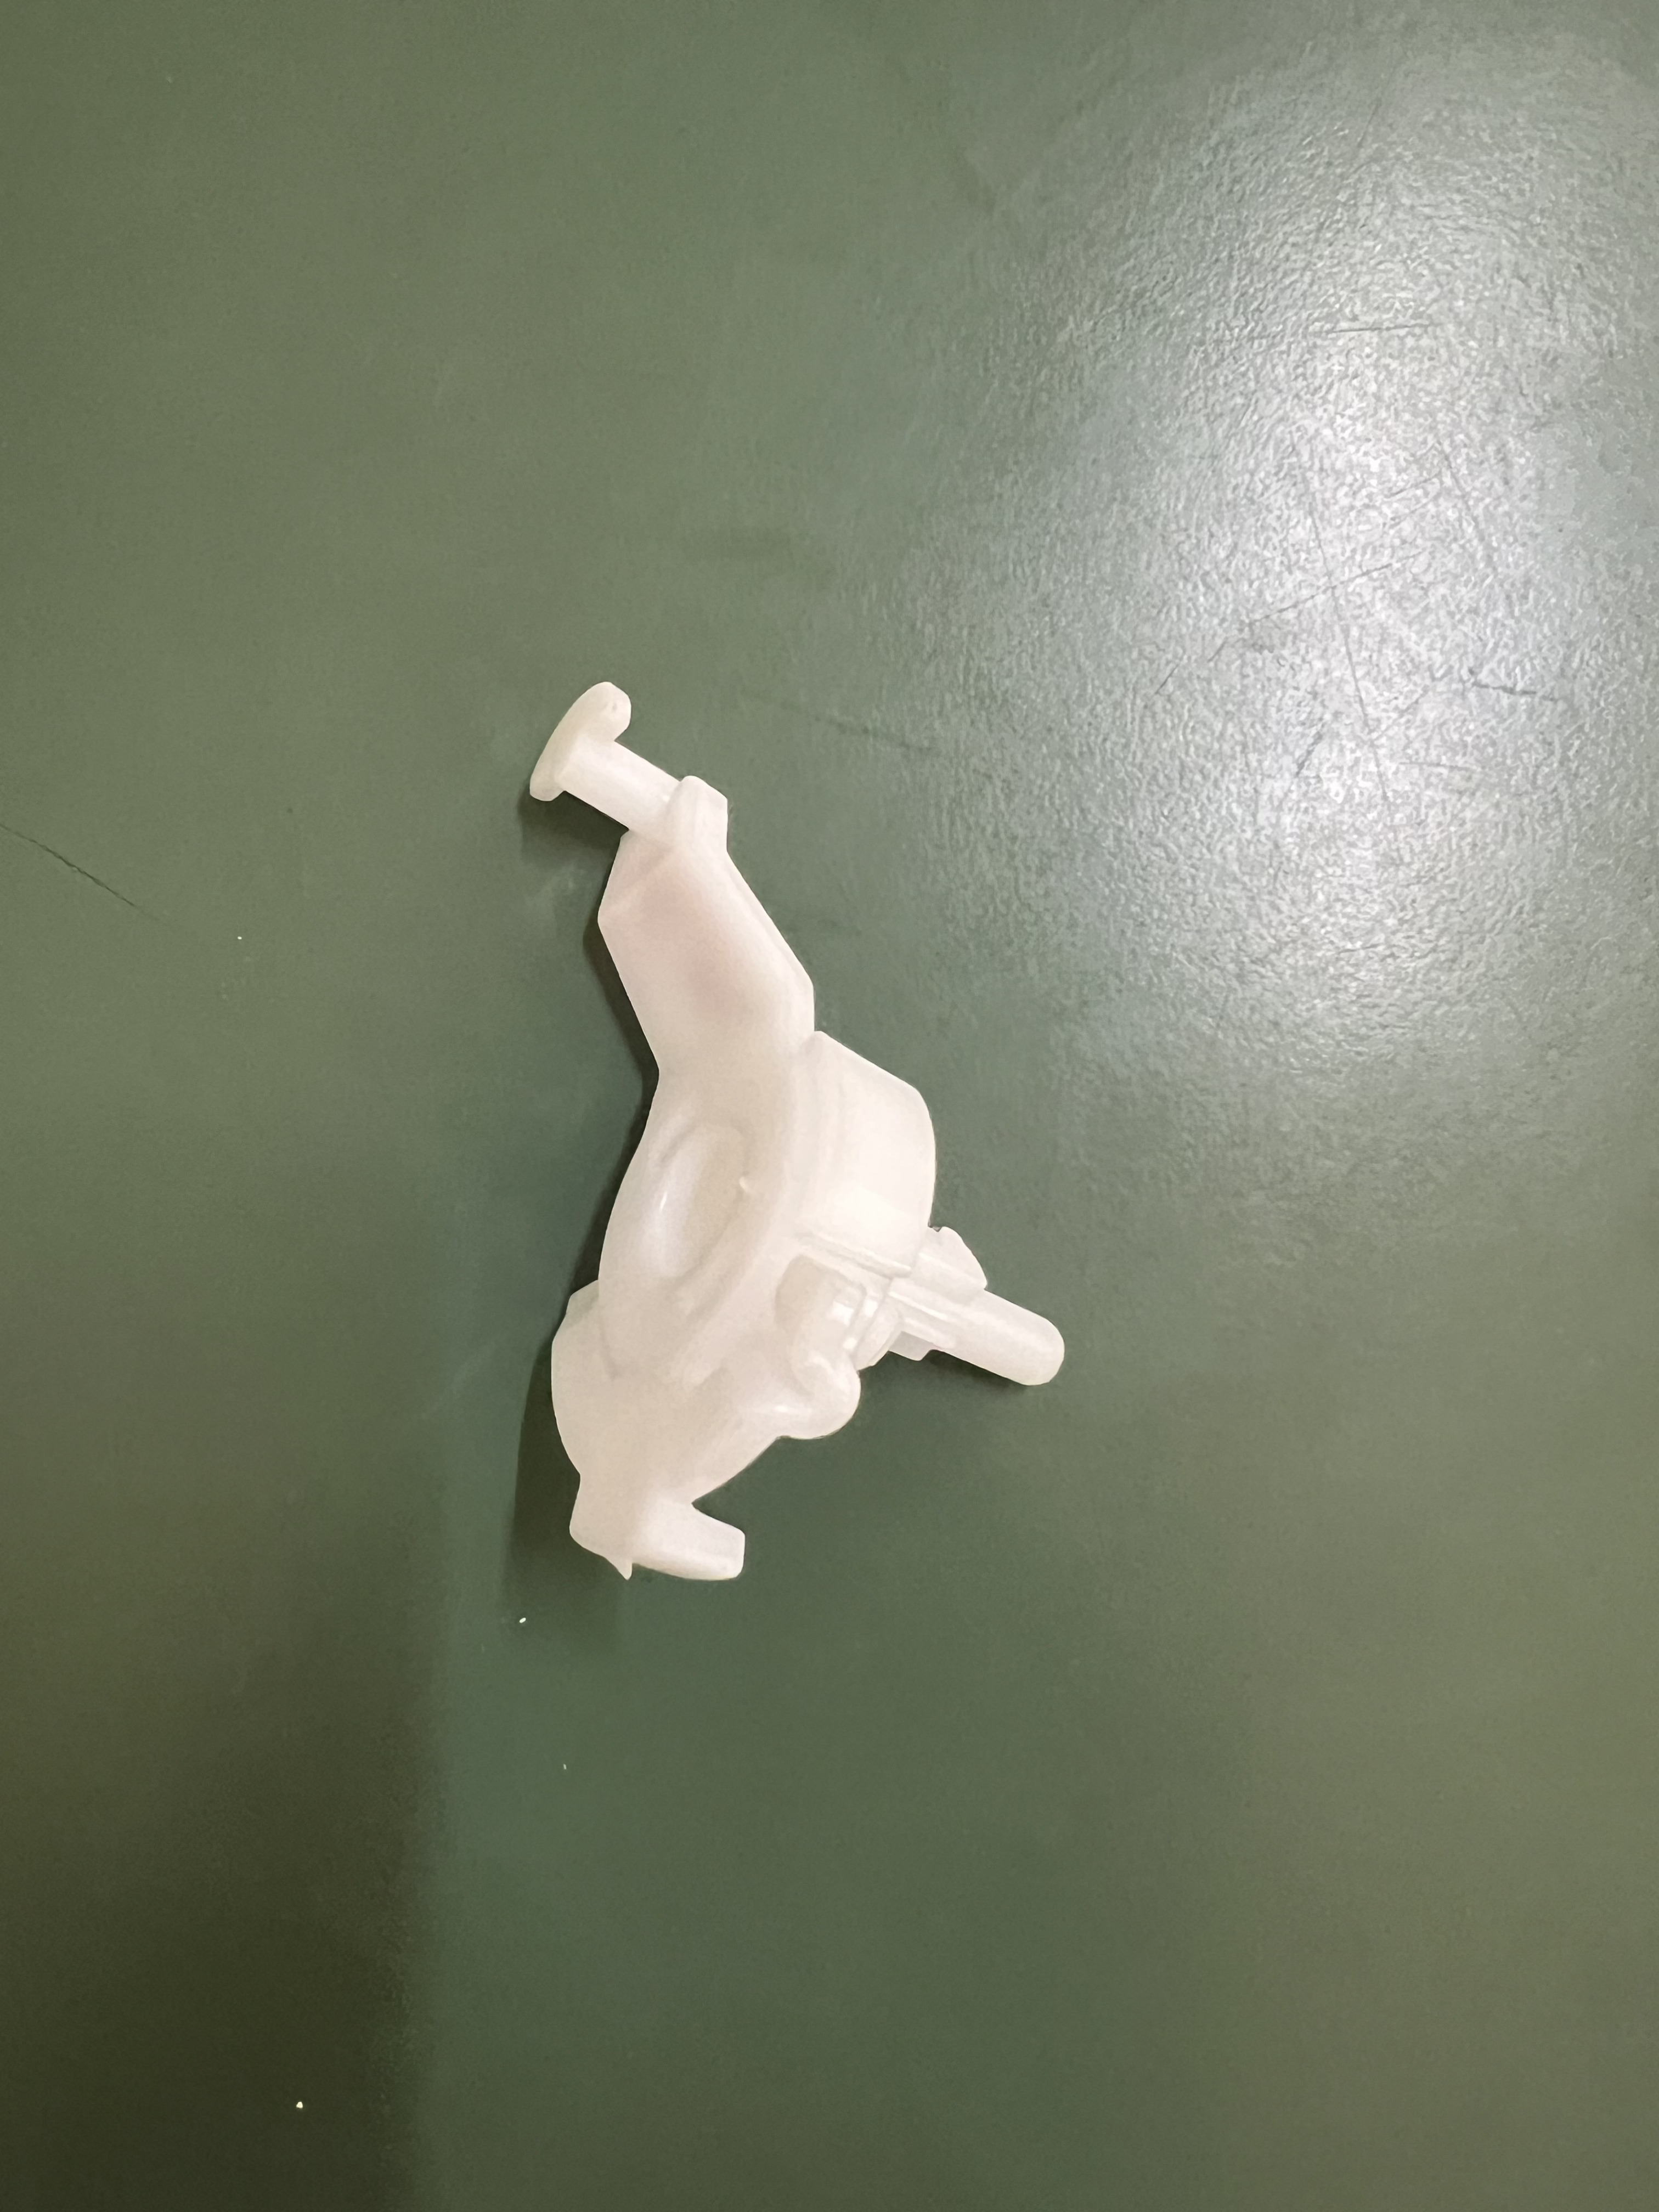drain_lever: (464, 664, 1060, 1611)
